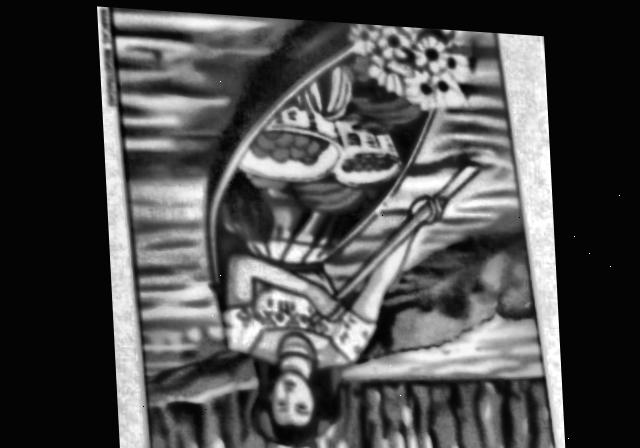El Chalupa: (113, 6, 548, 448)
